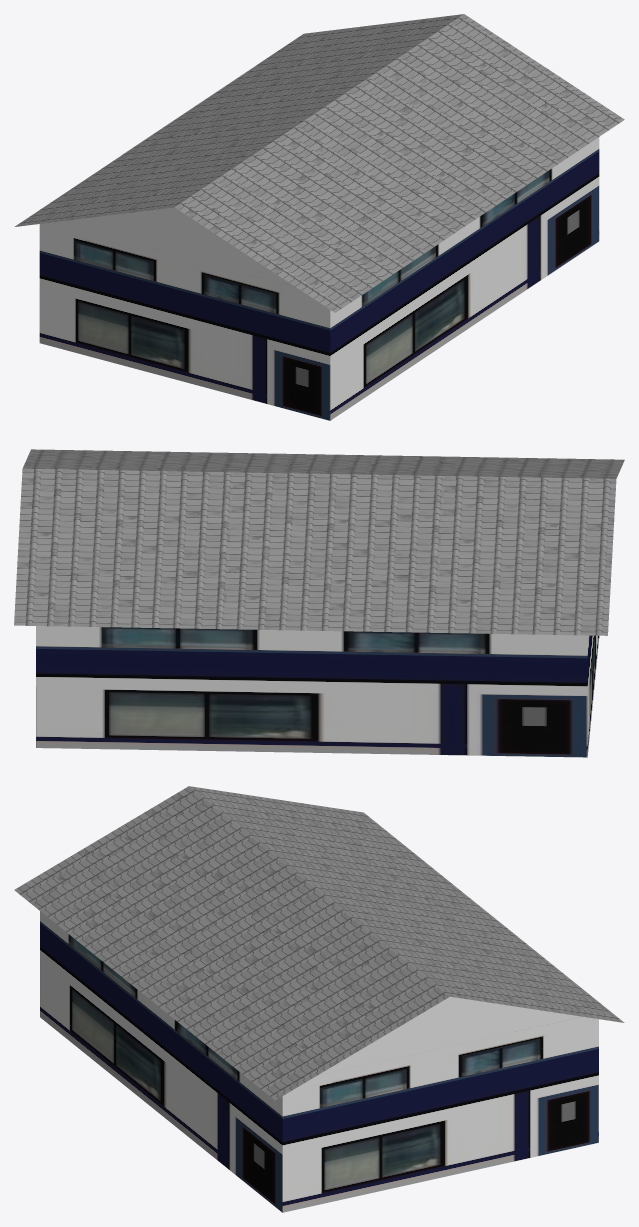
3 renders of one model, top to bottom at view 1: azimuth 30°, elevation 25°; view 2: azimuth 150°, elevation 25°; view 3: azimuth 270°, elevation 25°, orthographic. The views are drawn at different scales.
Visible parts, largest first — view 1: CityEngineMaterial_4_m, CityEngineMaterial_2_m, CityEngineMaterial_3_m; view 2: CityEngineMaterial_4_m, CityEngineMaterial_2_m; view 3: CityEngineMaterial_4_m, CityEngineMaterial_2_m, CityEngineMaterial_3_m.
Boxes of the visible parts, box(x1,y1,x2,y2) form: CityEngineMaterial_4_m: box(14, 14, 624, 312); CityEngineMaterial_2_m: box(39, 137, 599, 420); CityEngineMaterial_3_m: box(55, 207, 294, 286); CityEngineMaterial_4_m: box(14, 449, 624, 635); CityEngineMaterial_2_m: box(36, 626, 599, 757); CityEngineMaterial_4_m: box(14, 786, 624, 1100); CityEngineMaterial_2_m: box(40, 911, 598, 1212); CityEngineMaterial_3_m: box(318, 996, 581, 1075).
Bounding box in the file's own units: 34.09 × 10.41 × 30.56.
